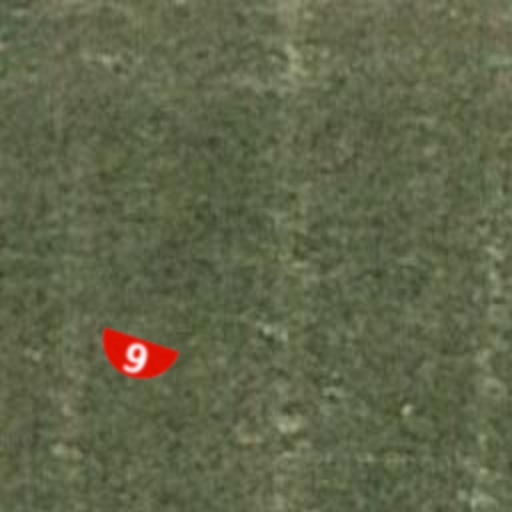semicircle: (86, 308, 186, 408)
